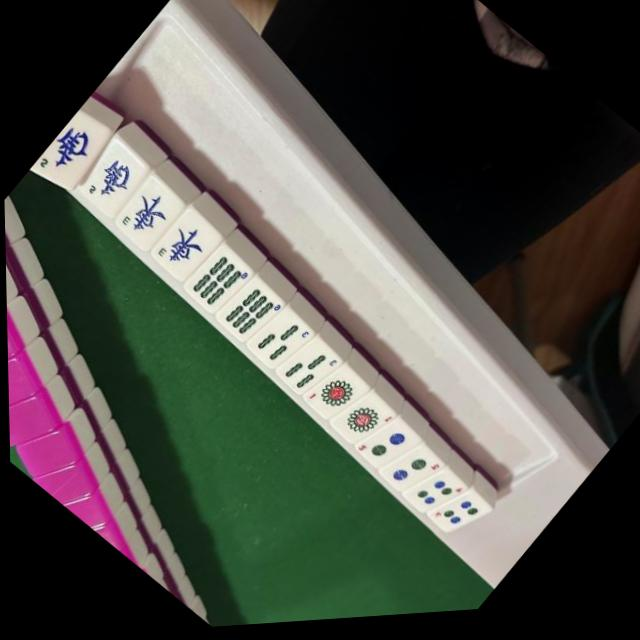hwe: (147, 207, 223, 286), (111, 175, 186, 252)
hws: (30, 109, 111, 194), (74, 137, 151, 219)
sb3: (248, 310, 312, 377), (277, 339, 340, 405)
sb6: (182, 244, 253, 318), (216, 280, 284, 350)
sd1: (301, 366, 362, 429), (332, 394, 391, 456)
sd2: (352, 416, 412, 479), (381, 444, 440, 505)
sd4: (426, 487, 483, 547), (409, 468, 463, 525)
